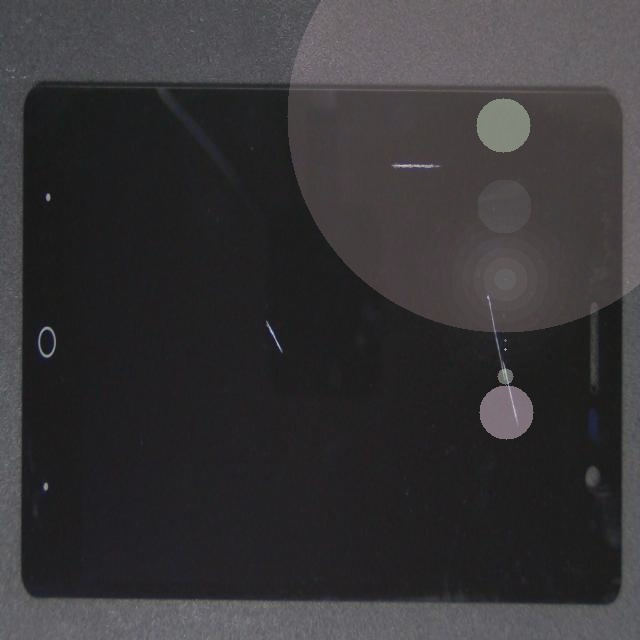scratch: (286, 310, 640, 579), (134, 118, 391, 483), (266, 60, 640, 212)
